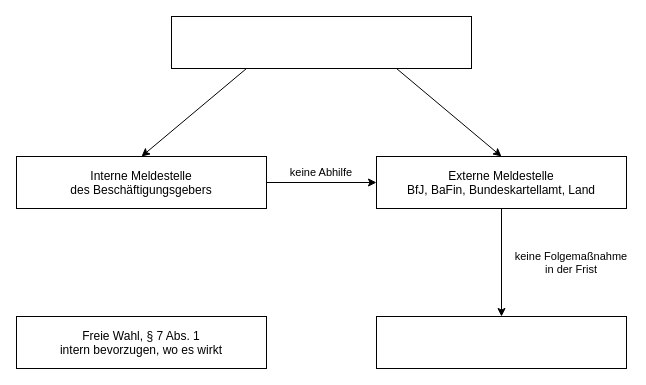
Image size: 646x385. Some labels were removed from this diagram. Each missing label, with the box of its shape:
Hinweis auf einen Verstoß im beruflichen Umfeld: (170, 16, 472, 68)
Offenlegung nur unter den Bedingungen des § 32: (376, 316, 626, 368)
